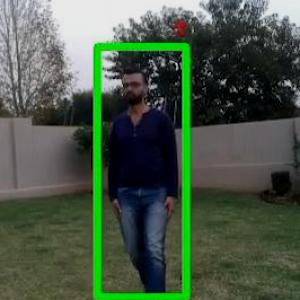follow: (97, 37, 188, 299)
